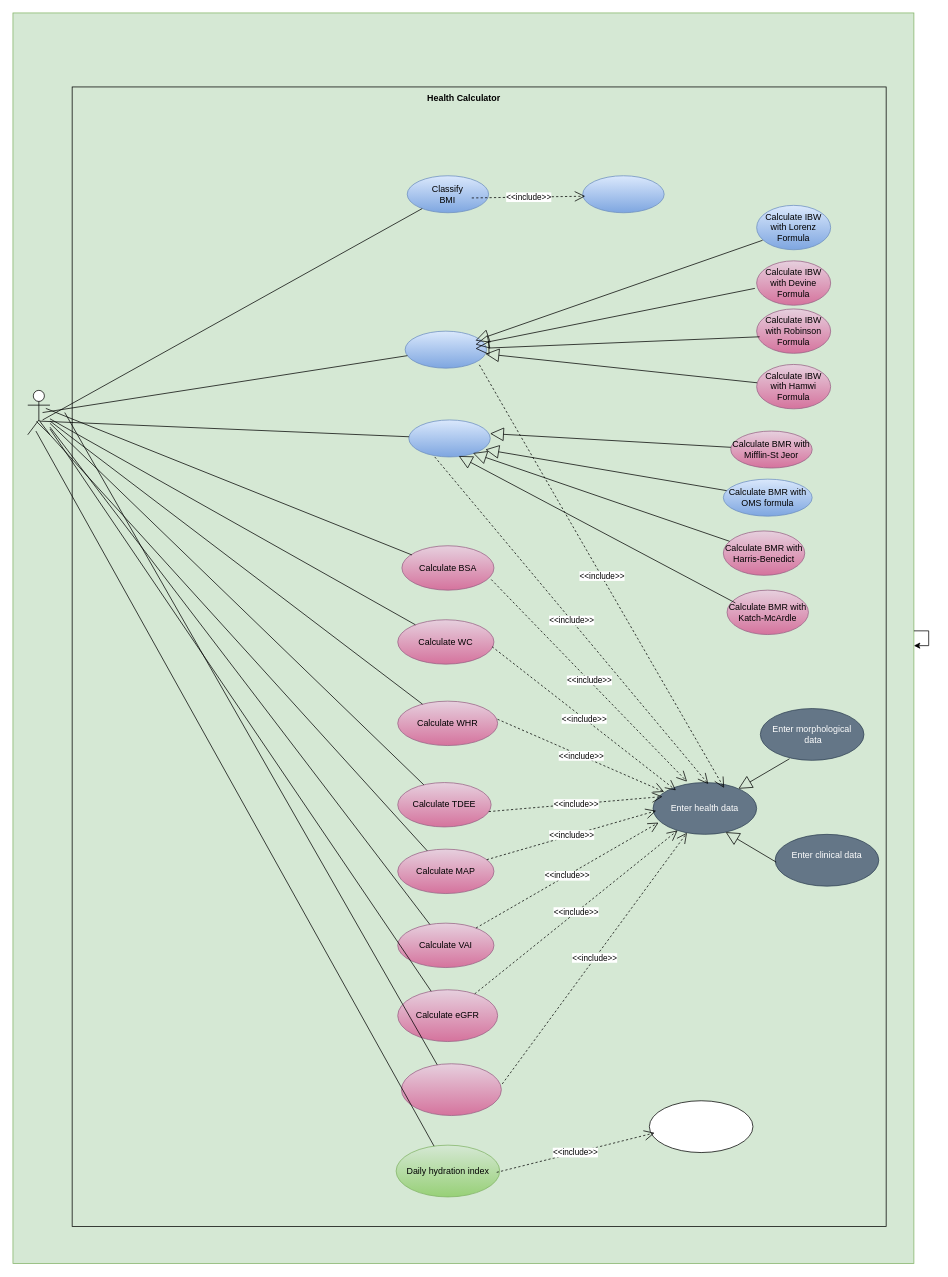
This 948x1277 diagram has some shape labels left out. Here are the shapes that lost their labels. From the top down, the centre of each, then its label:
At point (623, 194): "Calculate BMI".
At point (445, 349): "Calculate IBW".
At point (38, 412): "User".
At point (449, 438): "Calculate BMR".
At point (451, 1089): "Calculate NEWS2 Rating".
At point (701, 1126): "Enter physical activity level data".
